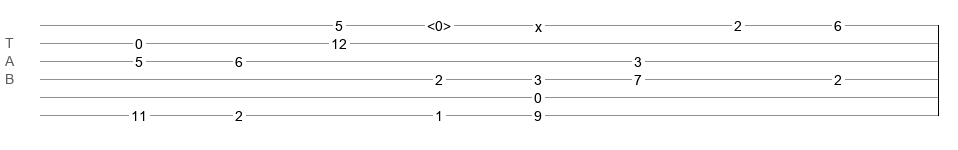0: (135, 36, 143, 46), (534, 90, 542, 100)
1: (435, 108, 443, 118)
11: (131, 108, 147, 118)
12: (331, 36, 347, 46)
2: (235, 108, 243, 118), (435, 72, 443, 82), (734, 18, 742, 28), (834, 72, 842, 82)
3: (534, 72, 542, 82), (634, 54, 642, 64)
5: (135, 54, 143, 64), (335, 18, 343, 28)
6: (235, 54, 243, 64), (834, 18, 842, 28)
7: (634, 72, 642, 82)
9: (534, 108, 542, 118)
harmonic: (427, 18, 451, 28)
x: (535, 19, 542, 27)
